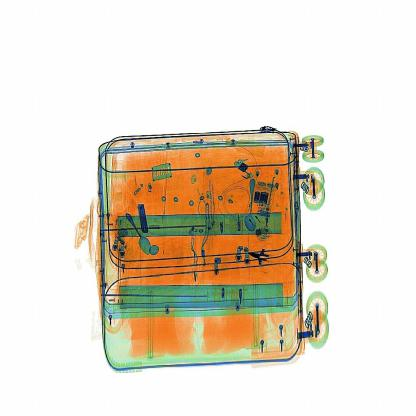gun: (238, 239, 284, 275)
